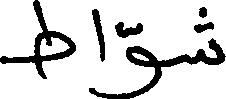X: (0, 0, 75, 83), (184, 2, 225, 69), (126, 18, 160, 98), (93, 4, 103, 98)
